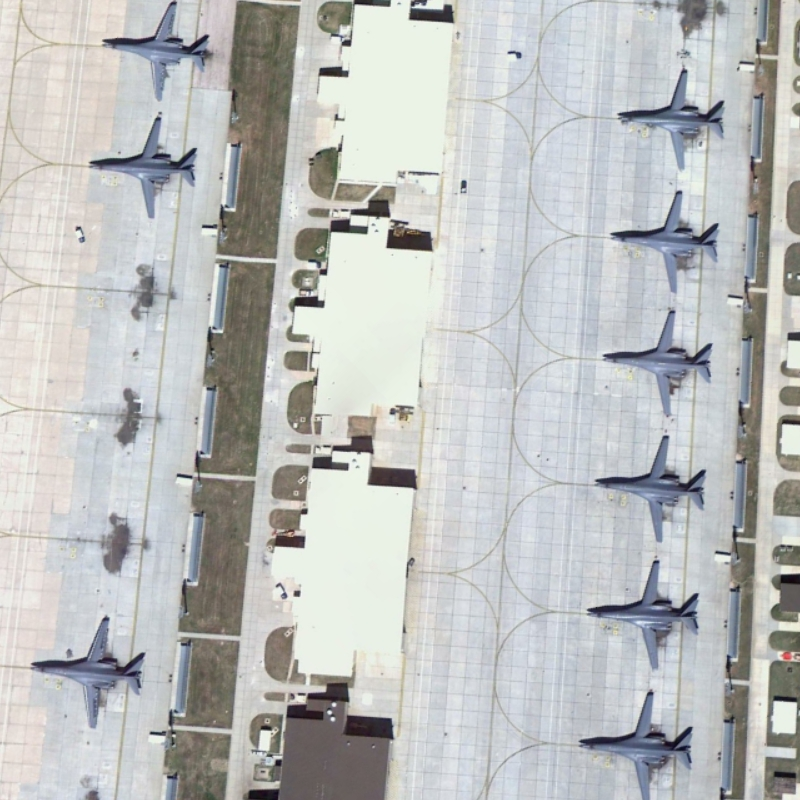A10: (30, 613, 155, 733), (599, 302, 722, 423), (588, 431, 716, 544), (587, 553, 705, 674), (576, 684, 699, 800), (604, 185, 726, 297), (84, 110, 204, 222), (617, 62, 730, 172), (104, 1, 227, 101)
